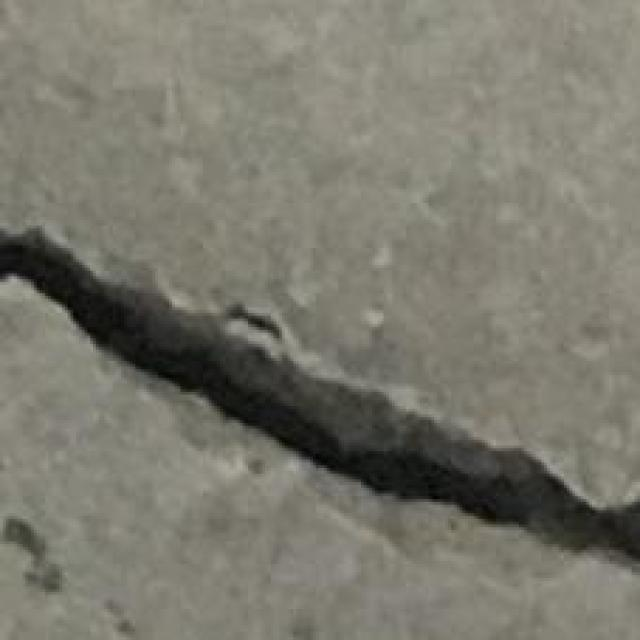diagonal crack: (0, 228, 639, 563)
